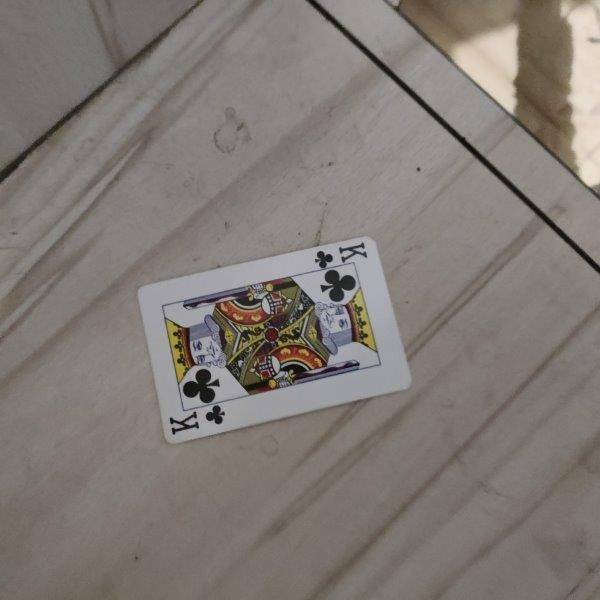King of Clubs: (137, 235, 412, 451)
